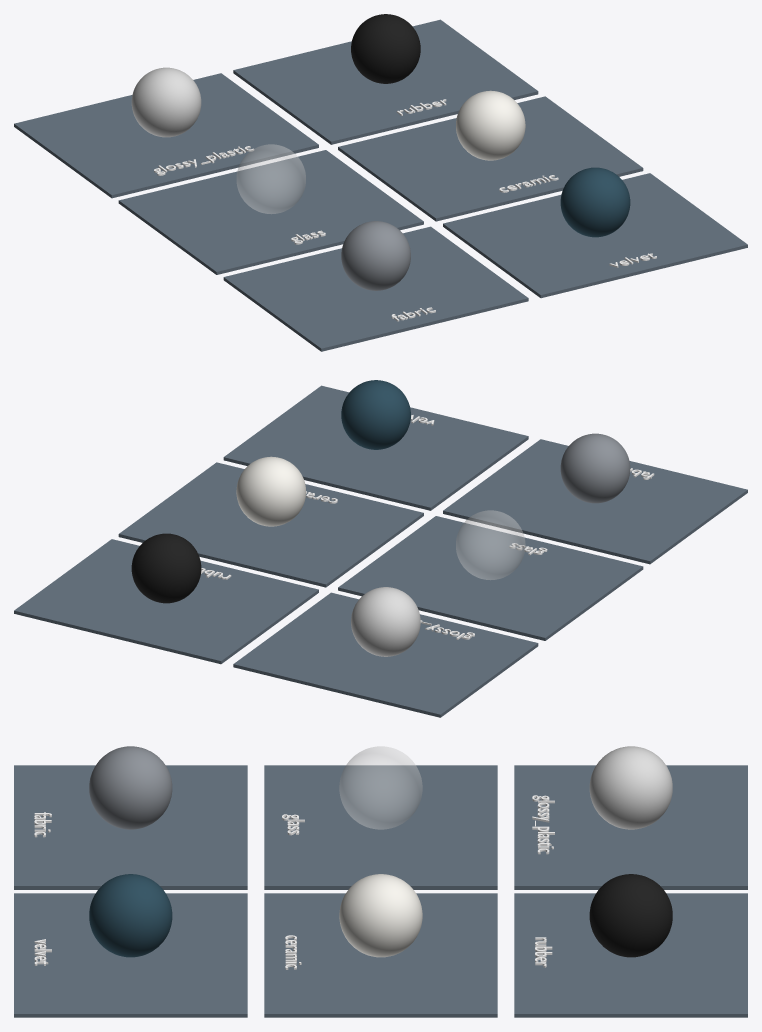
The model's file is mat_presets_surfaces.glb.
The picture shows the model from 3 angles, top to bottom: view 1: azimuth 30°, elevation 25°; view 2: azimuth 150°, elevation 25°; view 3: azimuth 270°, elevation 25°; orthographic projection. The views are drawn at different scales.
Parts seen in each view (by area): view 1: tile, velvet, glossy_plastic, rubber, ceramic, fabric, glass, label; view 2: tile, rubber, fabric, velvet, ceramic, glossy_plastic, glass, label; view 3: tile, velvet, rubber, ceramic, fabric, glossy_plastic, glass, label.
Boxes of the visible parts, x1,y1,x2,y2 form: tile: [14, 19, 747, 351]; velvet: [560, 167, 630, 237]; glossy_plastic: [131, 67, 201, 137]; rubber: [351, 14, 420, 83]; ceramic: [456, 90, 525, 160]; fabric: [341, 221, 410, 290]; glass: [237, 144, 305, 213]; label: [154, 99, 656, 321]; tile: [14, 385, 747, 717]; rubber: [131, 533, 201, 603]; fabric: [560, 433, 630, 503]; velvet: [341, 380, 410, 449]; ceramic: [236, 456, 305, 526]; glossy_plastic: [351, 587, 420, 656]; glass: [456, 510, 525, 579]; label: [201, 415, 654, 639]; tile: [14, 765, 747, 1017]; velvet: [89, 874, 172, 957]; rubber: [589, 874, 672, 957]; ceramic: [339, 874, 422, 957]; fabric: [89, 746, 172, 829]; glossy_plastic: [589, 746, 672, 829]; glass: [339, 746, 422, 829]; label: [34, 795, 554, 969].
Size of the model in its own units: 0.282 by 0.042 by 0.352.
